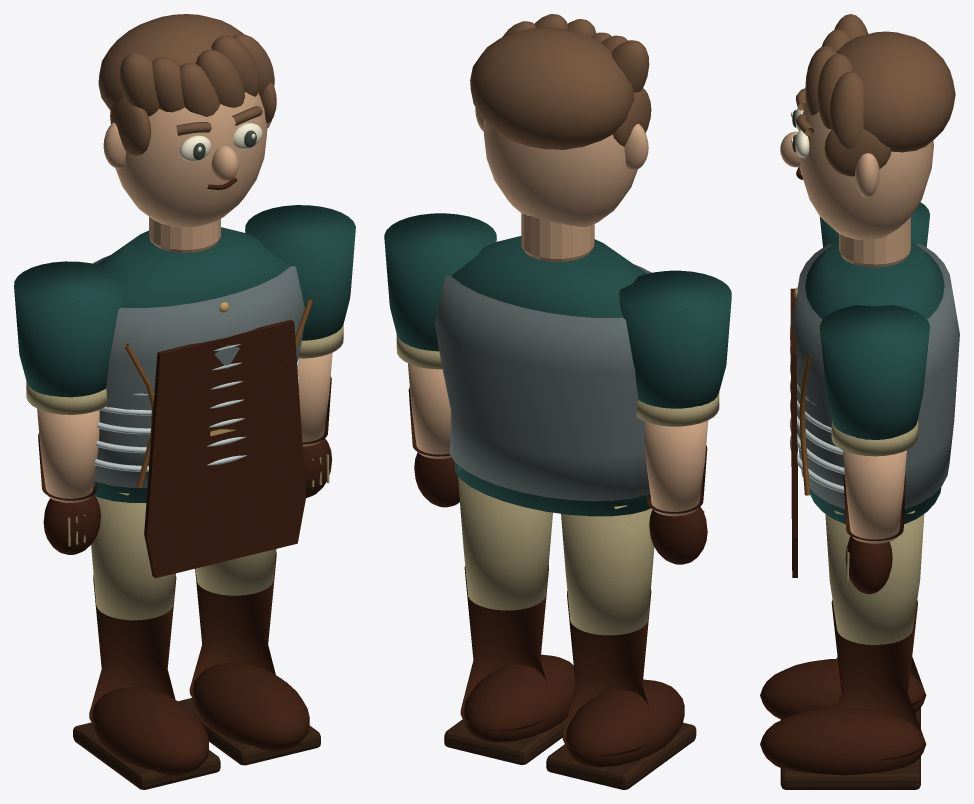
Rendered from character.glb.
The picture shows the model from 3 angles, left to right: view 1: azimuth 30°, elevation 25°; view 2: azimuth 150°, elevation 25°; view 3: azimuth 270°, elevation 25°; orthographic projection. The views are drawn at different scales.
Parts seen in each view (by area): view 1: Apron_Oiled leather, Part_Chestnut hair, Part_Warm skin, Mail_Blackened iron, Part_Oiled leather.007, Part_Oiled leather.004, Part_House teal.001, Part_House teal.002, Part_House teal, Part_Warm linen.003, Part_Warm skin.002, Part_Warm linen.004 (+10 smaller); view 2: Mail_Blackened iron, Part_Chestnut hair, Part_Warm skin, Part_House teal.001, Part_House teal.002, Part_Oiled leather.007, Part_Oiled leather.004, Part_Warm linen.003, Part_Warm linen.004, Part_House teal, Part_Warm skin.002, Part_Warm skin.001 (+6 smaller); view 3: Part_Chestnut hair, Part_Oiled leather.004, Mail_Blackened iron, Part_House teal, Part_Warm skin, Part_House teal.002, Part_Warm linen.004, Part_Warm skin.001, Part_Oiled leather.007, Part_Oak end grain.001, Part_Oiled leather.003, Apron_Oiled leather (+6 smaller).
Part boxes in pixels (x1,y1,x2,y2): Apron_Oiled leather: [144, 319, 305, 578]; Part_Chestnut hair: [98, 14, 276, 155]; Part_Warm skin: [103, 92, 271, 252]; Mail_Blackened iron: [93, 255, 304, 488]; Part_Oiled leather.007: [89, 574, 208, 775]; Part_Oiled leather.004: [189, 552, 309, 751]; Part_House teal.001: [14, 261, 124, 397]; Part_House teal.002: [93, 227, 289, 502]; Part_House teal: [245, 205, 355, 340]; Part_Warm linen.003: [91, 492, 175, 620]; Part_Warm skin.002: [37, 408, 99, 502]; Part_Warm linen.004: [195, 549, 276, 595]; Mail_Blackened iron: [435, 264, 651, 501]; Part_Chestnut hair: [470, 14, 651, 149]; Part_Warm skin: [475, 107, 648, 261]; Part_House teal.001: [619, 270, 731, 408]; Part_House teal.002: [451, 236, 650, 516]; Part_Oiled leather.007: [562, 590, 684, 767]; Part_Oiled leather.004: [460, 564, 575, 742]; Part_Warm linen.003: [561, 505, 654, 635]; Part_Warm linen.004: [457, 465, 552, 610]; Part_House teal: [384, 213, 496, 351]; Part_Warm skin.002: [645, 420, 708, 516]; Part_Warm skin.001: [408, 363, 451, 458]; Part_Chestnut hair: [795, 14, 955, 176]; Part_Oiled leather.004: [760, 600, 926, 775]; Mail_Blackened iron: [789, 243, 959, 509]; Part_House teal: [819, 305, 929, 439]; Part_Warm skin: [780, 102, 933, 267]; Part_House teal.002: [805, 243, 944, 524]; Part_Warm linen.004: [825, 510, 924, 644]; Part_Warm skin.001: [842, 450, 906, 543]; Part_Oiled leather.007: [760, 656, 926, 719]; Part_Oak end grain.001: [780, 756, 920, 789]; Part_Oiled leather.003: [845, 536, 892, 594]; Apron_Oiled leather: [790, 288, 797, 577].
Size of the model in its own units: 0.782 by 1.63 by 0.416.
12 materials, 5 textured.
